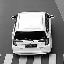motor: (19, 9, 51, 59)
